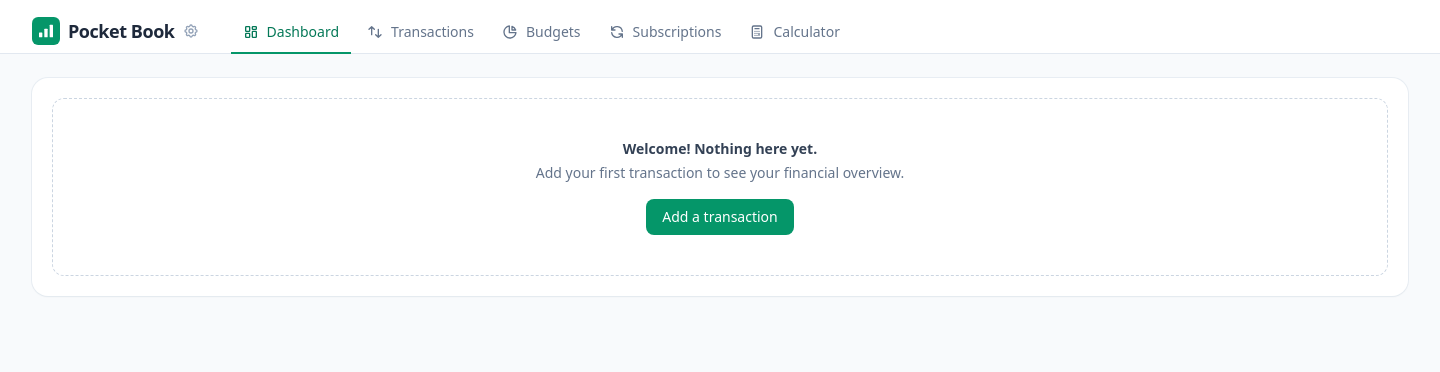
App (smoke test through the real screens) › the Back button / gesture › the in-app Back button in Settings also uses history (no stack of repeats)
Click the button with aria-label "open settings": {"x": 115, "y": 30} left=24, top=12, right=207, bottom=48
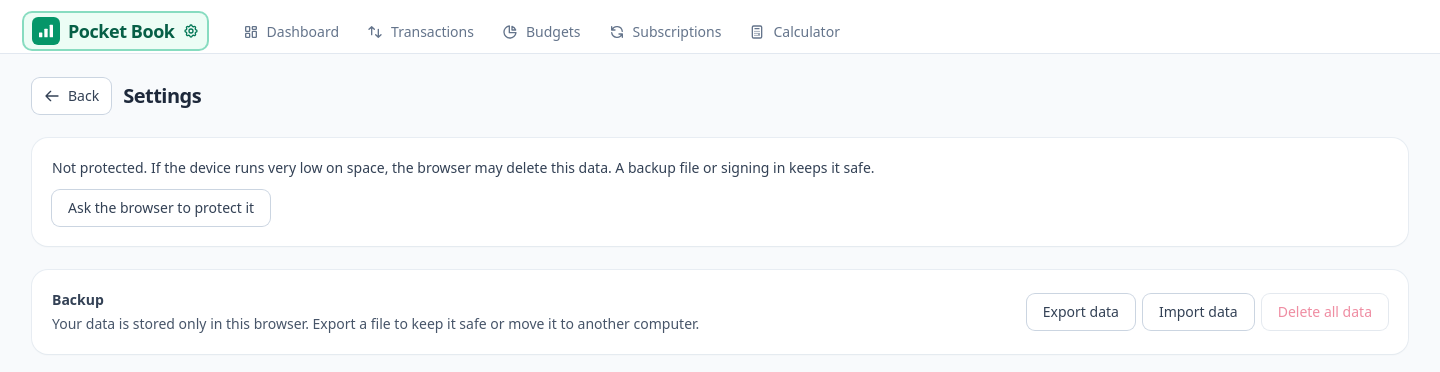
Click the button "Back": {"x": 72, "y": 96} left=32, top=78, right=111, bottom=114
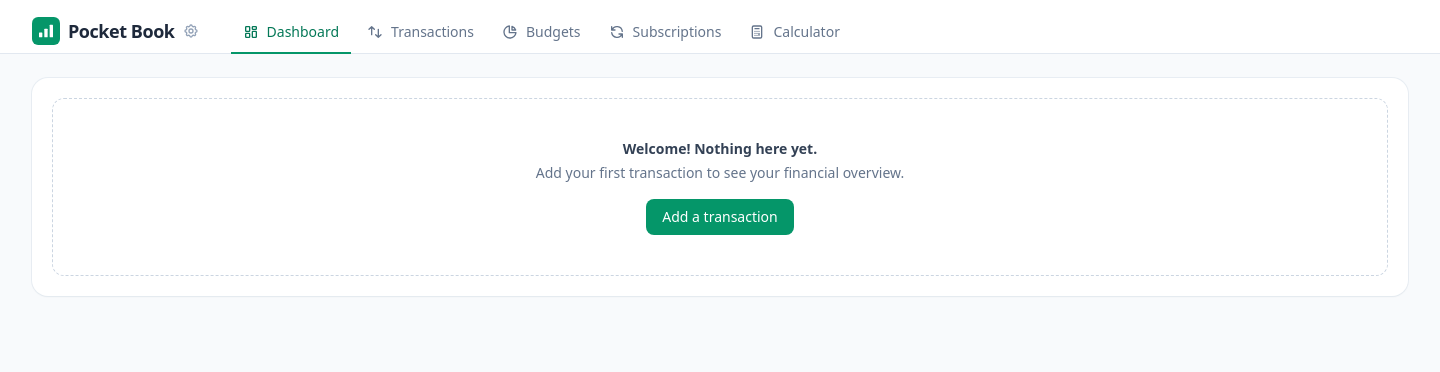
Result: the heading "Settings" is gone
